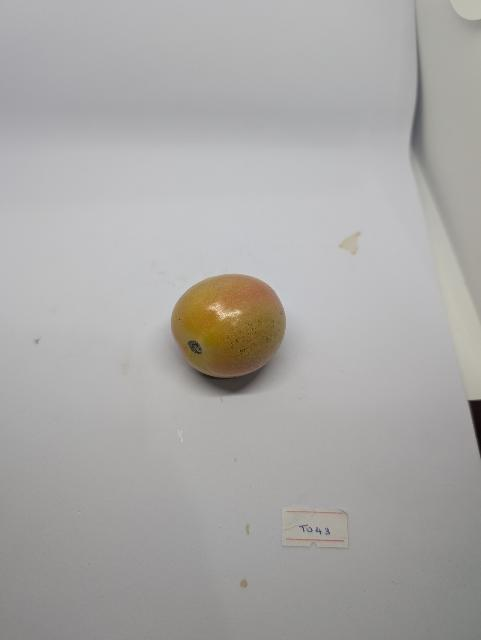turning: (153, 264, 297, 383)
